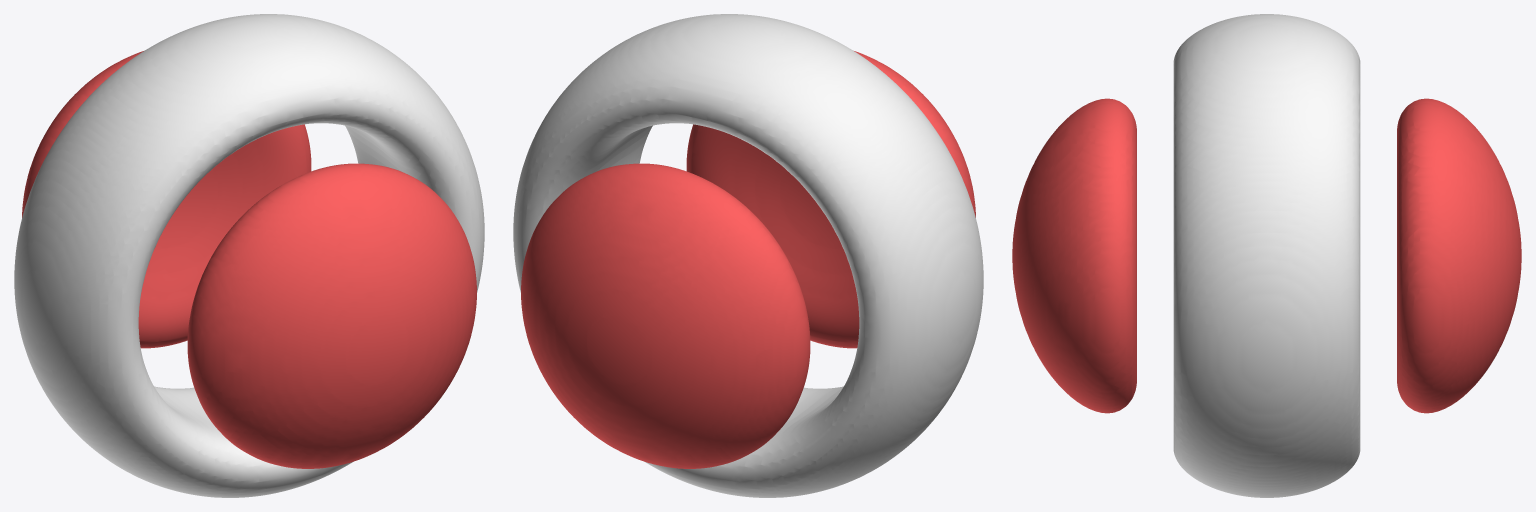
3 views of the same model, side by side, from view 1: azimuth 30°, elevation 25°; view 2: azimuth 150°, elevation 25°; view 3: azimuth 270°, elevation 25° (orthographic). The views are drawn at different scales.
Visible parts, largest first — view 1: d_dz2; view 2: d_dz2; view 3: d_dz2.
Part boxes in pixels (x1=…): d_dz2: x1=14, y1=14, x2=484, y2=497; d_dz2: x1=513, y1=14, x2=983, y2=497; d_dz2: x1=1012, y1=14, x2=1521, y2=497.
Size of the model in its own units: 1.9 by 1.9 by 2.
